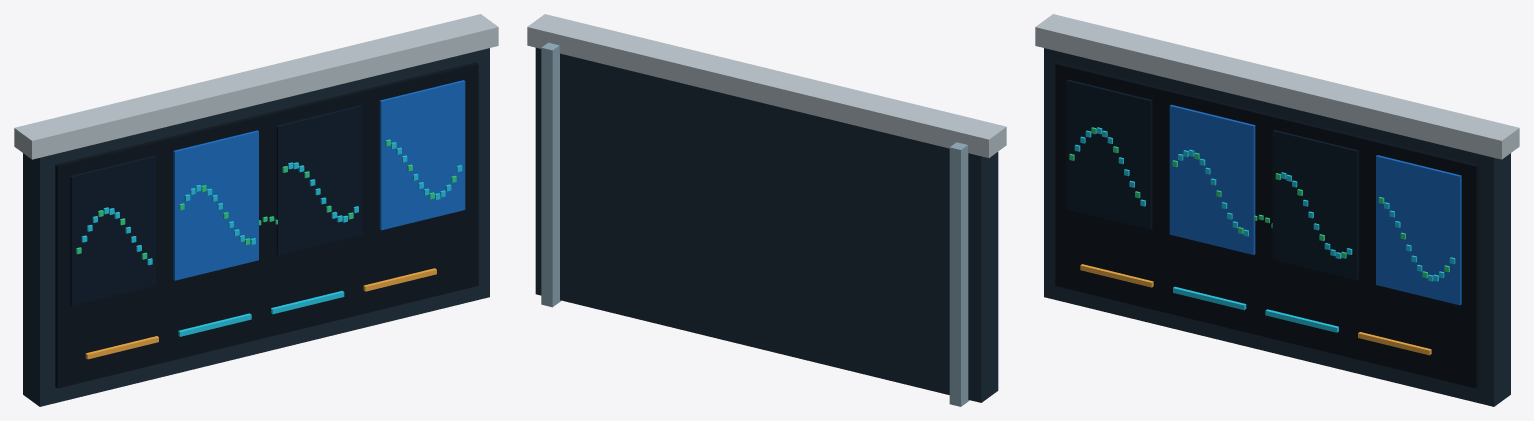
File: 54_L78_HolographicTDDBReliabilityGraph.fbx
The picture shows the model from 3 angles, left to right: view 1: azimuth 30°, elevation 25°; view 2: azimuth 150°, elevation 25°; view 3: azimuth 330°, elevation 25°; orthographic projection.
Visible parts, largest first — view 1: HolographicTDDBReliabilityGraph; view 2: HolographicTDDBReliabilityGraph; view 3: HolographicTDDBReliabilityGraph.
Part boxes in pixels (bbox=[...]): HolographicTDDBReliabilityGraph: bbox=[14, 14, 498, 406]; HolographicTDDBReliabilityGraph: bbox=[527, 14, 1006, 406]; HolographicTDDBReliabilityGraph: bbox=[1035, 14, 1519, 406].
Size of the model in its own units: 286 by 158 by 32.4.
